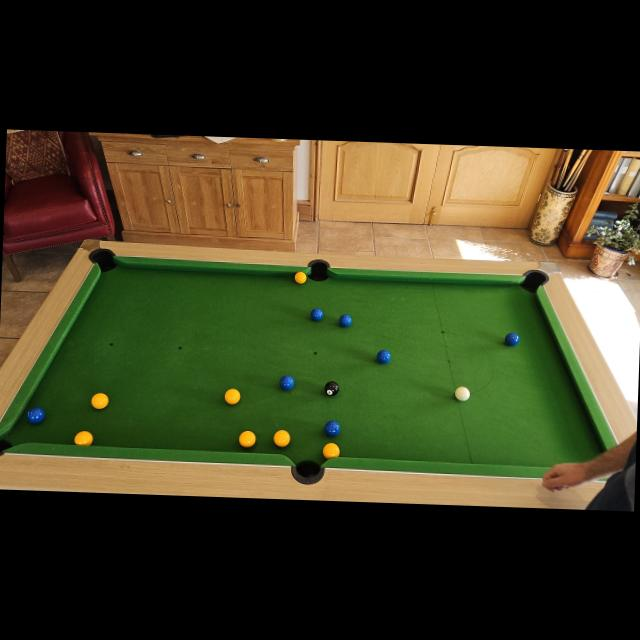Ball: (24, 405, 44, 425), (324, 419, 341, 438), (90, 392, 108, 409), (238, 430, 256, 447), (322, 442, 339, 460), (73, 430, 92, 446), (278, 375, 296, 391), (274, 429, 290, 446), (224, 388, 240, 404), (454, 386, 469, 402), (324, 381, 339, 396), (504, 332, 518, 347), (310, 308, 324, 322), (377, 350, 391, 362), (294, 272, 307, 284), (339, 314, 351, 326)
